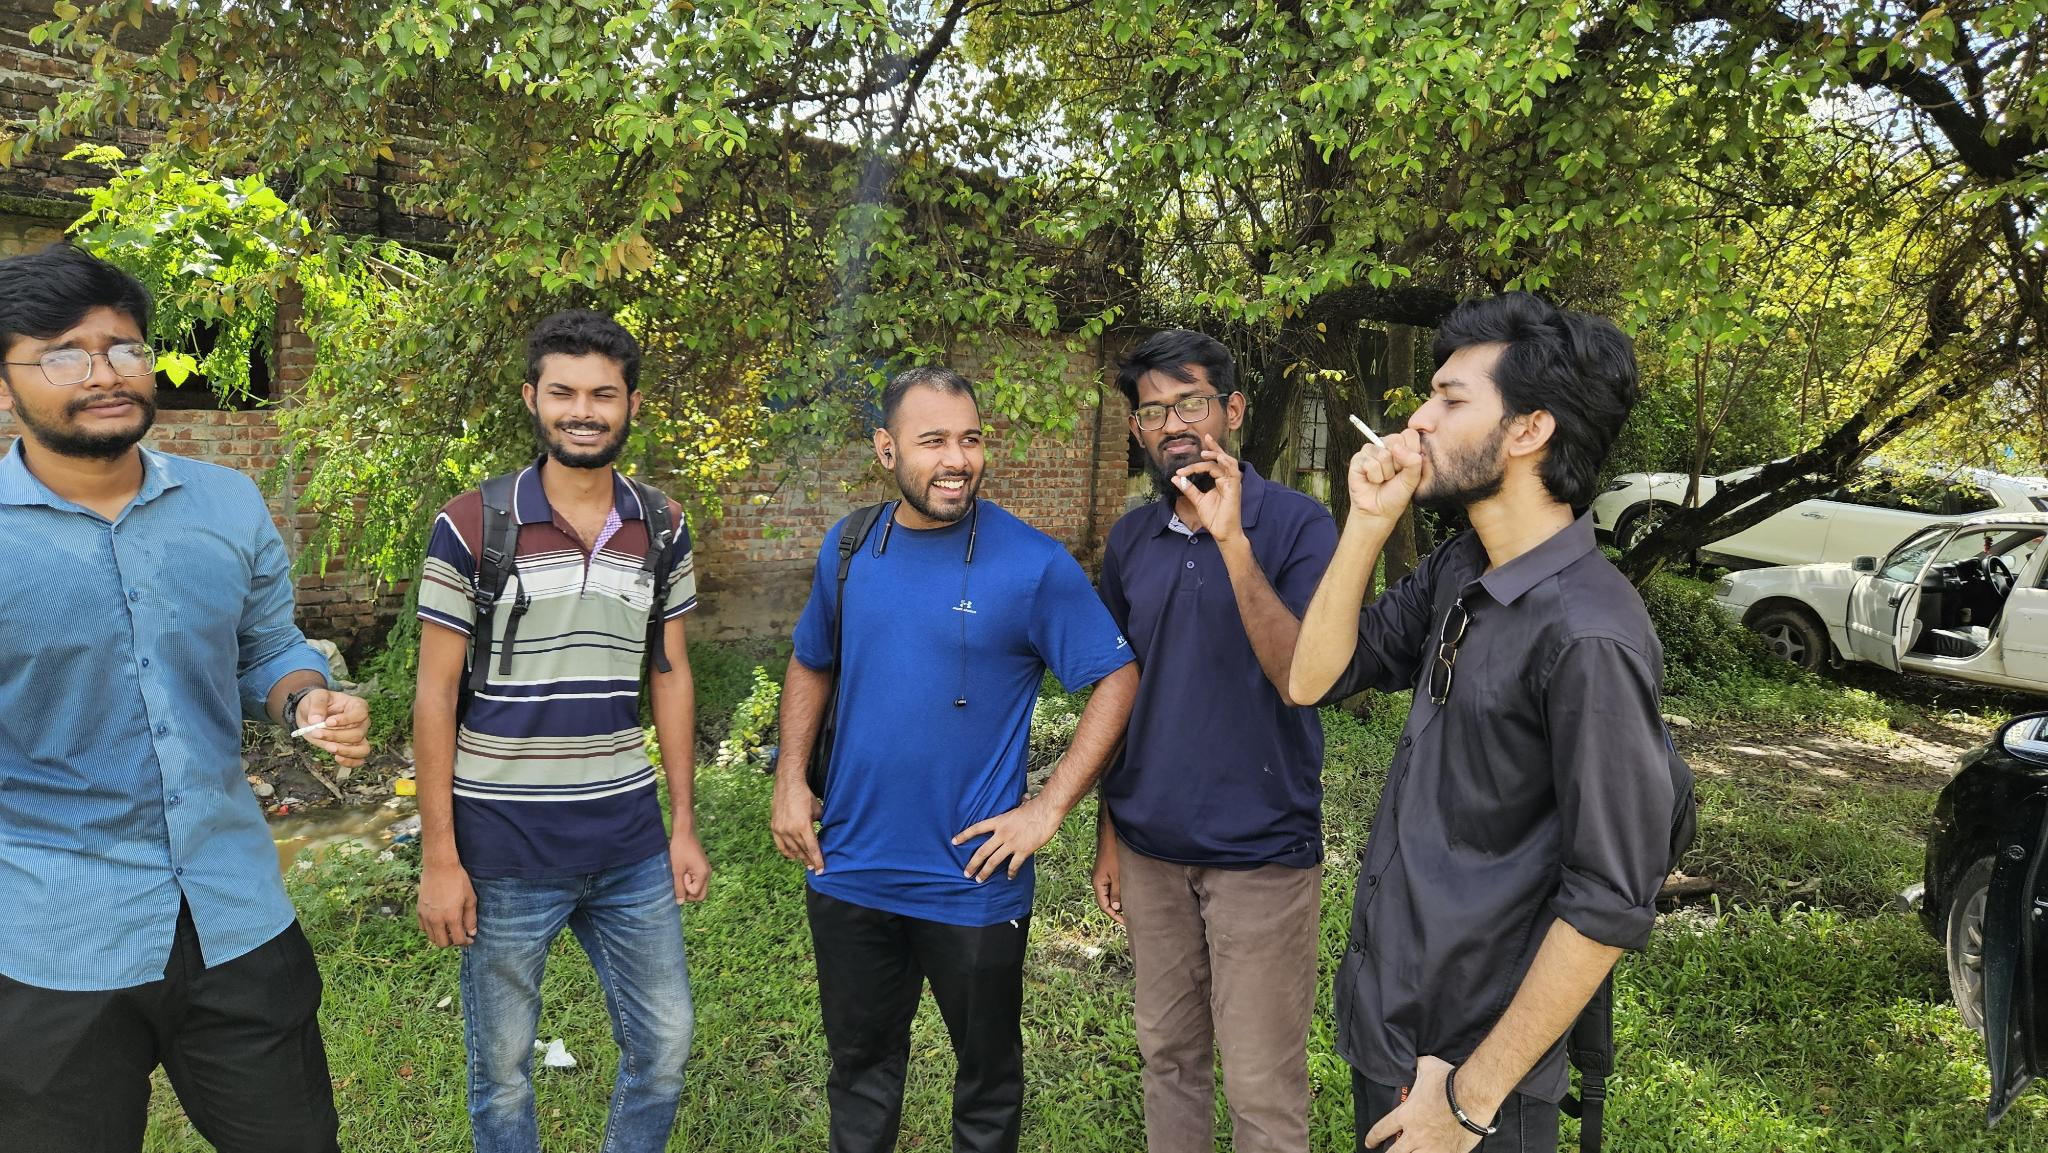cigarette: (1348, 411, 1391, 454), (288, 719, 331, 740), (1177, 471, 1190, 495)
nonSmoker: (768, 367, 1137, 1153), (407, 309, 712, 1153)
smoker: (1293, 292, 1694, 1153), (0, 256, 376, 1153), (1089, 330, 1339, 1153)
